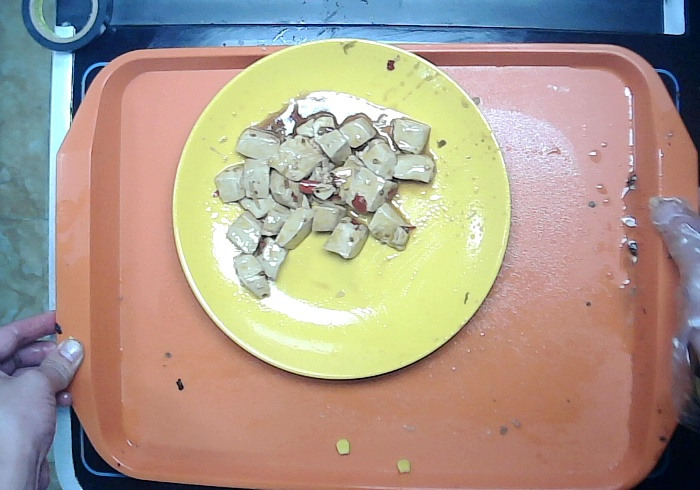HZYJPL-Huang_Se_Yuan_Pan: (162, 39, 514, 392)
